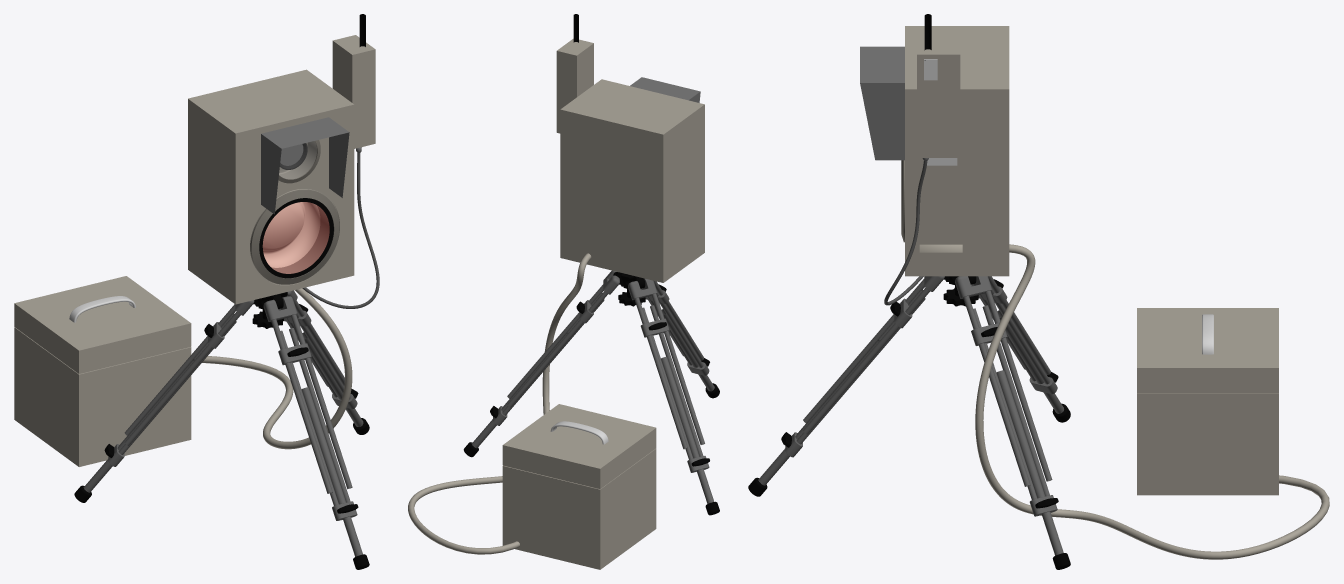
File: mastertux-radar-2189.glb
3 views of the same model, side by side, from view 1: azimuth 30°, elevation 25°; view 2: azimuth 150°, elevation 25°; view 3: azimuth 270°, elevation 25° (orthographic). The views are drawn at different scales.
Visible parts, largest first — view 1: Cube.010, Cube, Circle.003, Cube.006, Rotglas, Cube.007, Circle.008, Cube.004, NurbsPath.002, Circle.007, Cube.001, Kameraglas (+5 smaller); view 2: Cube, Cube.010, Circle.008, Circle.007, NurbsPath.002, Cube.007, Circle.003, Cube.006, Circle.004, NurbsPath.001; view 3: Cube.010, Cube, Circle.007, NurbsPath.002, Cube.007, Cube.006, Circle.003, Circle.008, NurbsPath.
Boxes of the visible parts, bbox=[...] form: Cube.010: bbox=[14, 276, 191, 466]; Cube: bbox=[188, 69, 354, 304]; Circle.003: bbox=[263, 296, 369, 569]; Cube.006: bbox=[261, 117, 349, 214]; Rotglas: bbox=[263, 202, 329, 273]; Cube.007: bbox=[332, 35, 375, 148]; Circle.008: bbox=[74, 300, 254, 502]; Cube.004: bbox=[262, 202, 320, 267]; NurbsPath.002: bbox=[202, 288, 352, 449]; Circle.007: bbox=[278, 290, 369, 434]; Cube.001: bbox=[250, 189, 339, 284]; Kameraglas: bbox=[279, 141, 316, 178]; Cube: bbox=[560, 79, 704, 282]; Cube.010: bbox=[502, 404, 656, 569]; Circle.008: bbox=[628, 278, 719, 515]; Circle.007: bbox=[463, 270, 619, 457]; NurbsPath.002: bbox=[408, 253, 591, 554]; Cube.007: bbox=[556, 38, 593, 133]; Circle.003: bbox=[640, 281, 719, 398]; Cube.006: bbox=[630, 77, 700, 102]; Circle.004: bbox=[613, 272, 645, 306]; NurbsPath.001: bbox=[550, 421, 608, 444]; Cube.010: bbox=[1137, 308, 1278, 495]; Cube: bbox=[905, 26, 1009, 276]; Circle.007: bbox=[955, 276, 1070, 569]; NurbsPath.002: bbox=[975, 244, 1329, 559]; Cube.007: bbox=[917, 42, 960, 157]; Cube.006: bbox=[860, 46, 904, 160]; Circle.003: bbox=[748, 276, 944, 496]; Circle.008: bbox=[971, 276, 1070, 422]; NurbsPath: bbox=[884, 160, 927, 305].
Bounding box in the file's own units: 4.05 × 6.32 × 6.36.
